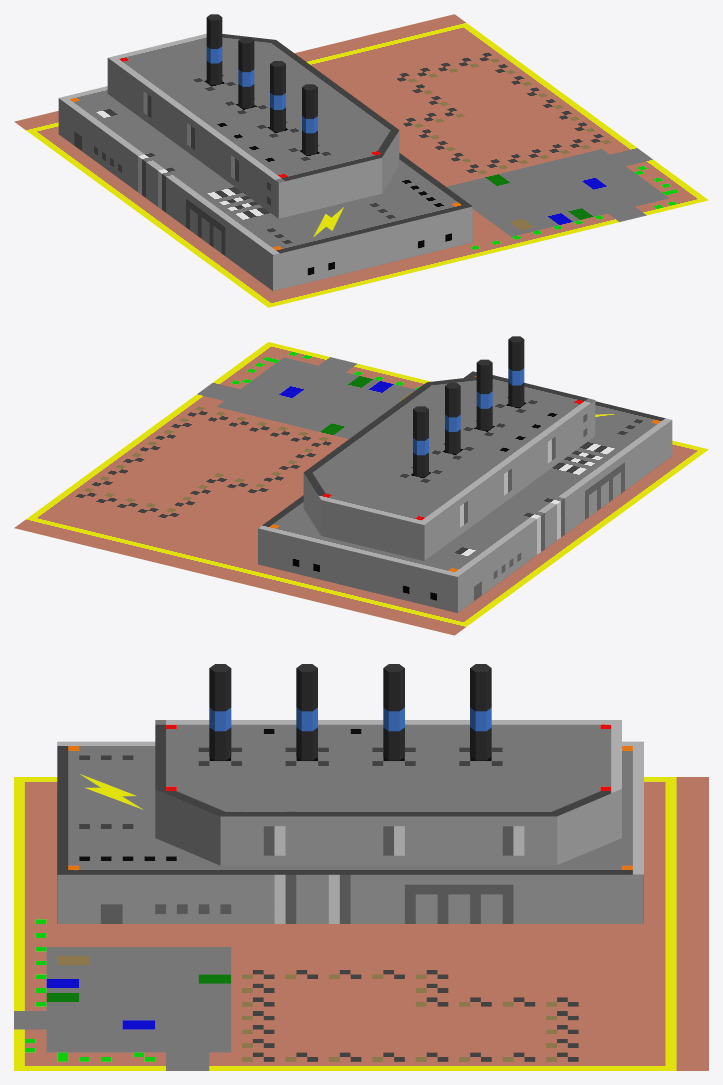
The model's file is power_plant.obj.
The picture shows the model from 3 angles, top to bottom: view 1: azimuth 30°, elevation 25°; view 2: azimuth 150°, elevation 25°; view 3: azimuth 270°, elevation 25°; orthographic projection. The views are drawn at different scales.
Visible parts, largest first — view 1: power_plant_Plane; view 2: power_plant_Plane; view 3: power_plant_Plane.
Part boxes in pixels (box(x1,y1,x2,y2)): power_plant_Plane: box(14, 14, 708, 307); power_plant_Plane: box(14, 336, 708, 635); power_plant_Plane: box(14, 664, 708, 1070).
Bounding box in the file's own units: 64 × 19 × 64.
